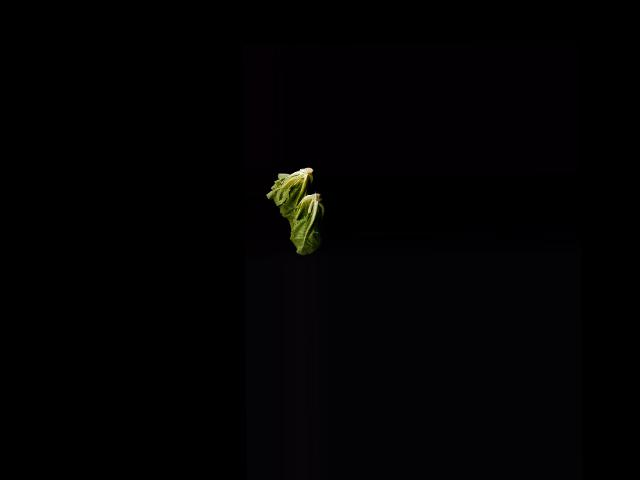lettuce: (266, 167, 320, 228)
